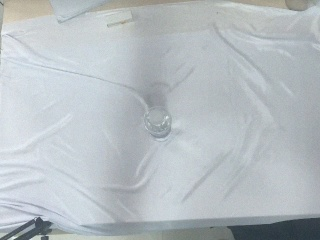bottle: (142, 105, 173, 142)
